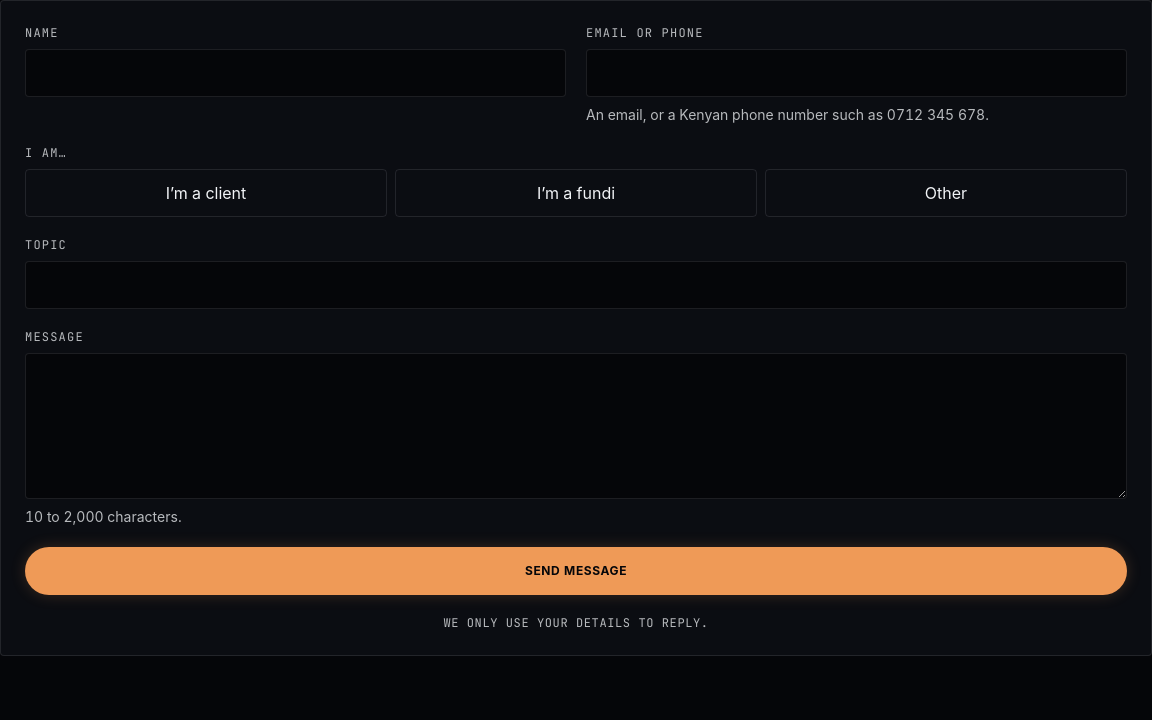
Test case: contact form (Convex) › rejects a message under 10 characters
Click the radio button labelled "I’m a fundi": (576, 193) [395,169,757,217]
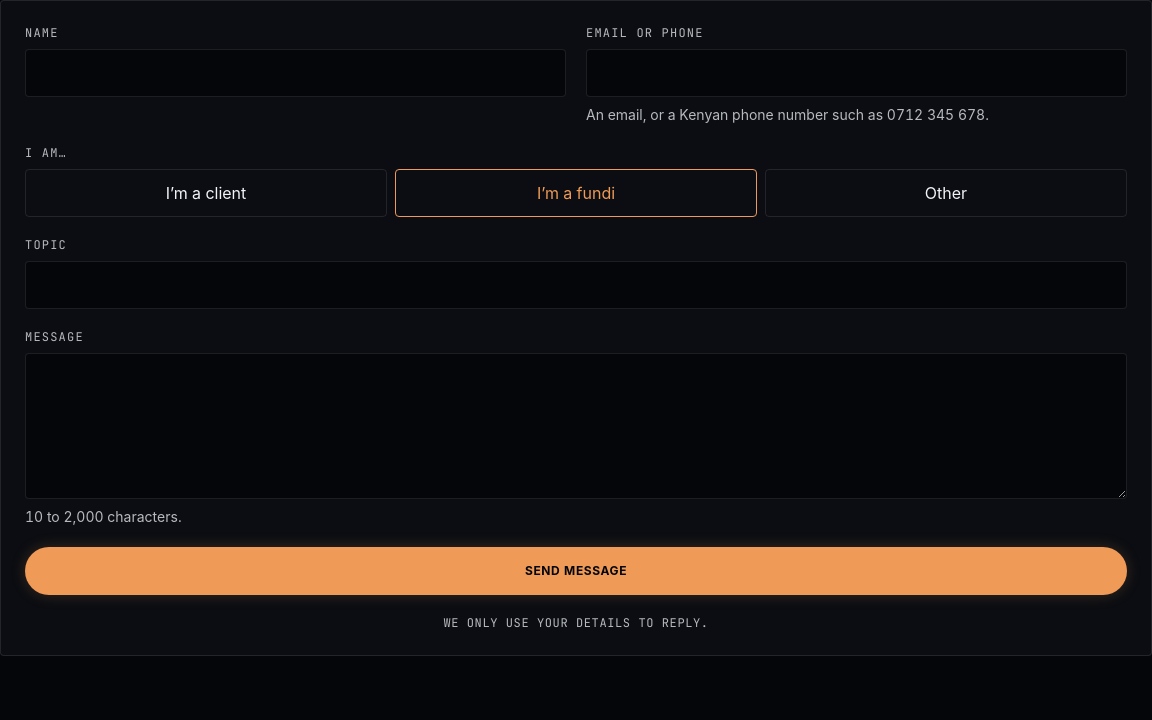
In the field labelled "Name": (296, 73) [25,49,566,97], type "  Wanjiru Kamau "
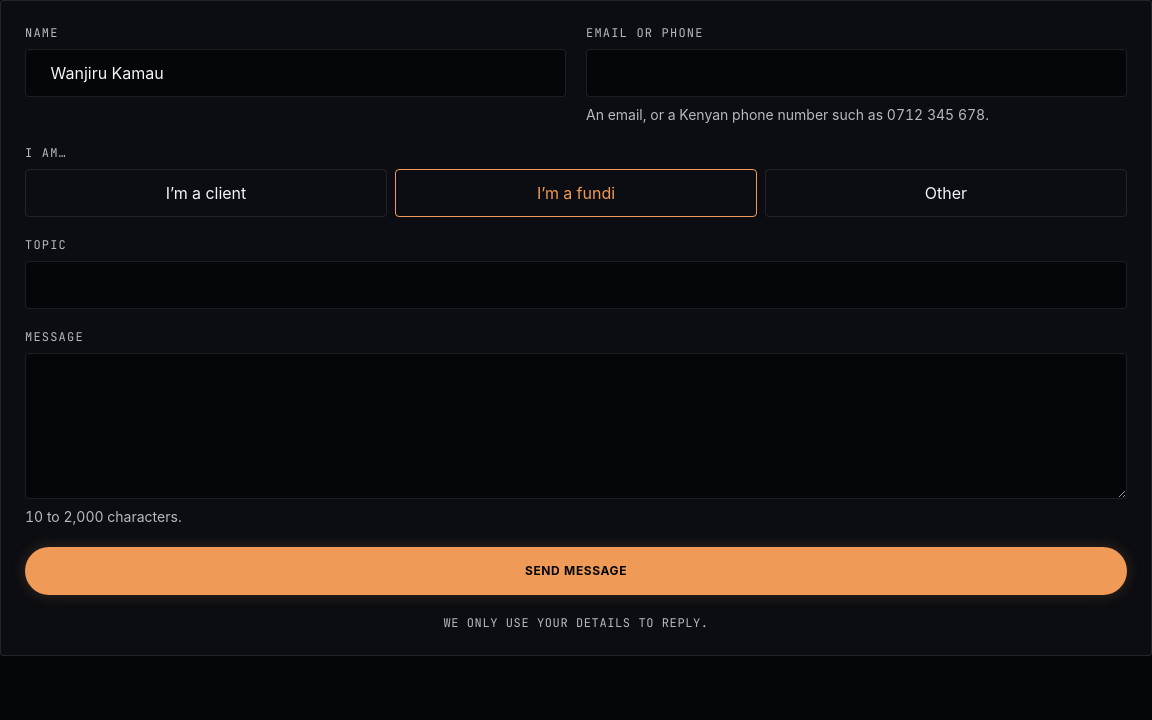
In the field labelled "Email or phone": (856, 73) [586,49,1127,97], type "0712 345 678"
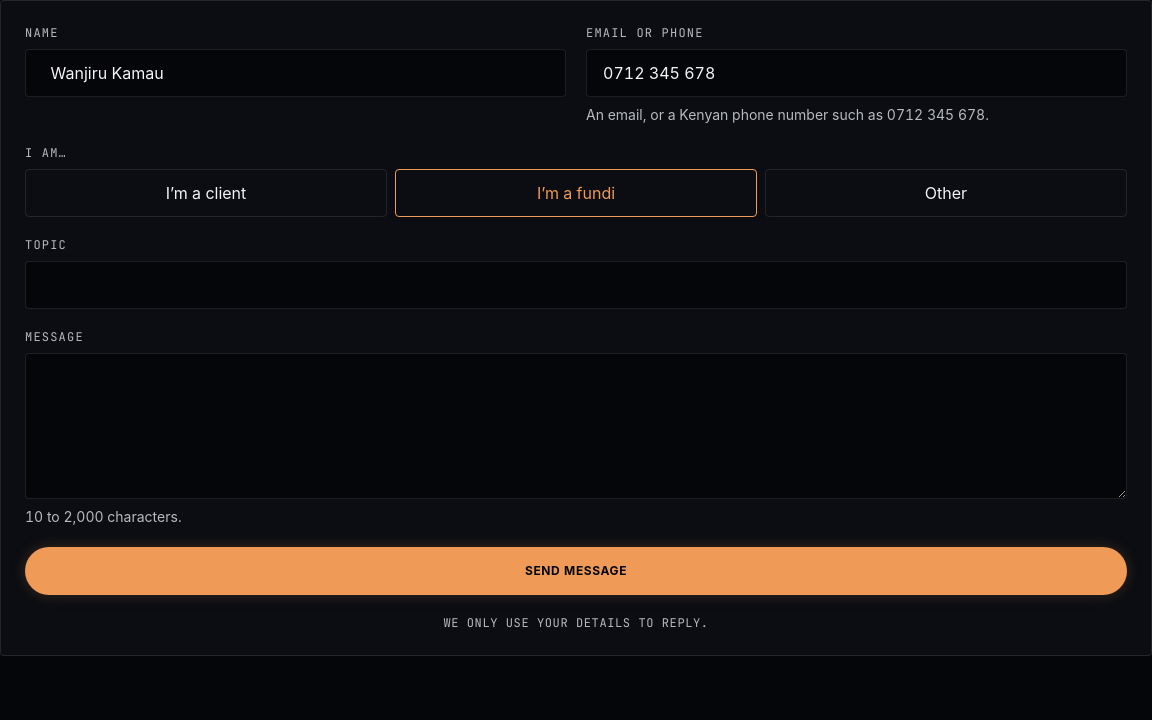
In the field labelled "Topic": (576, 285) [25,261,1127,309], type "My badge"
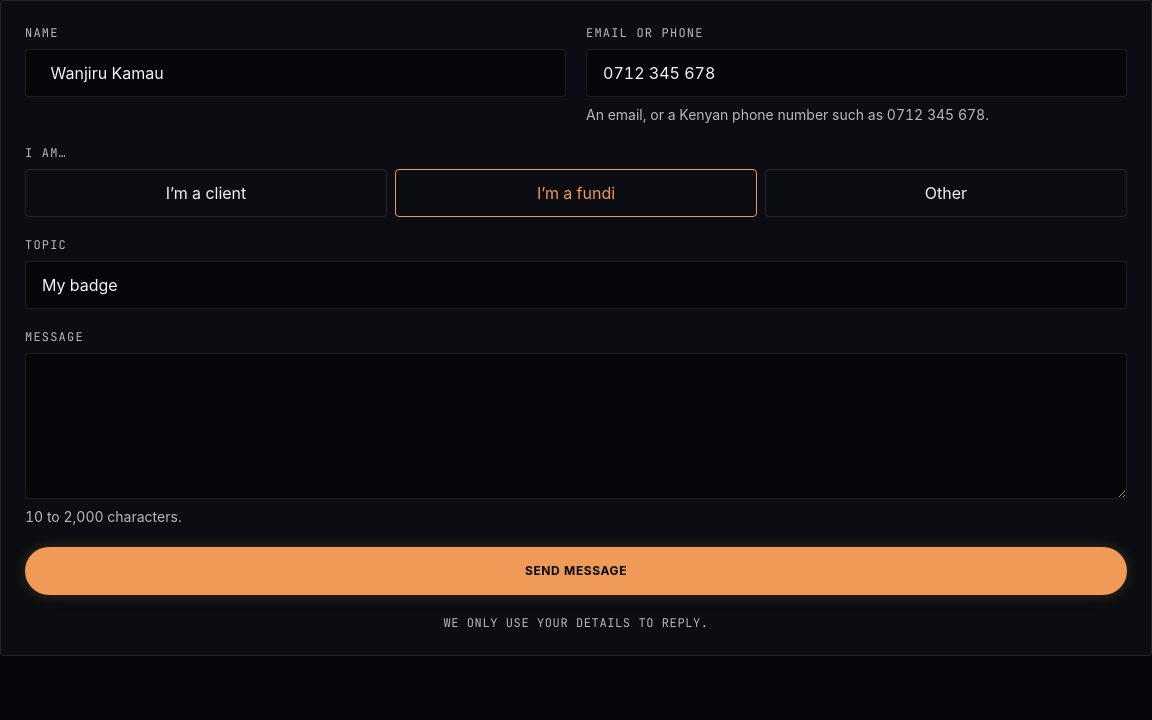
In the text box labelled "Message": (576, 426) [25,353,1127,499], type "How long does a review take after I upload?"
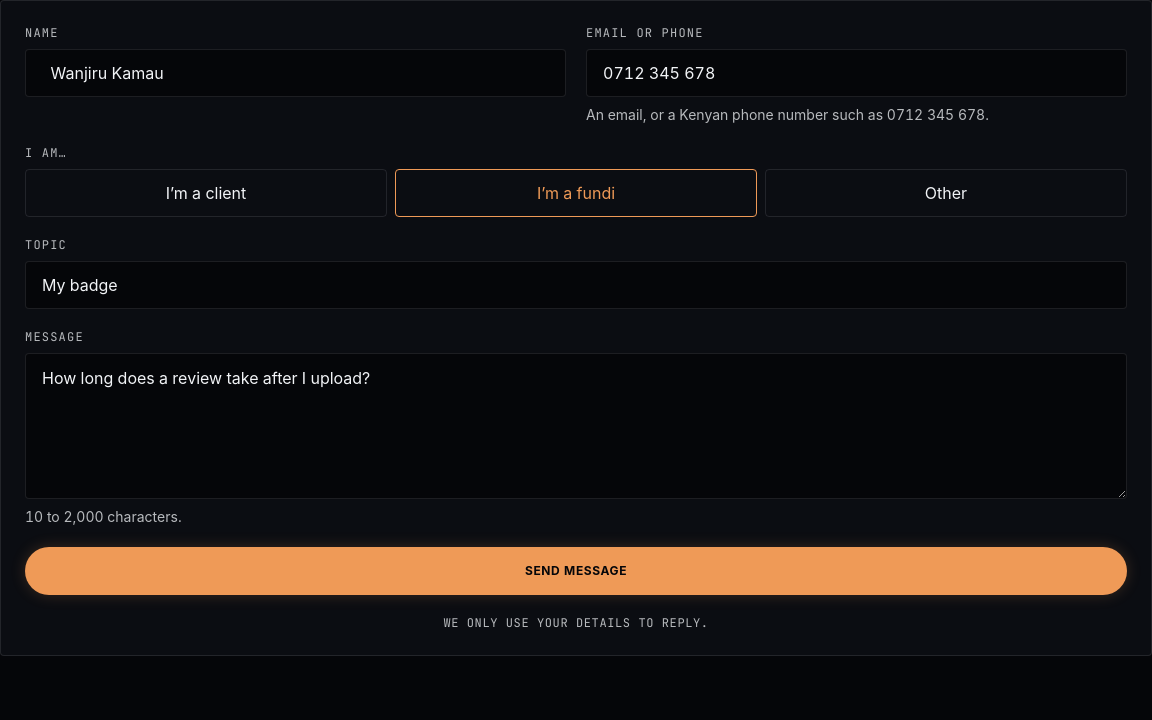
Replace the text in the text box labelled "Message" with "Too short": (576, 426) [25,353,1127,499]
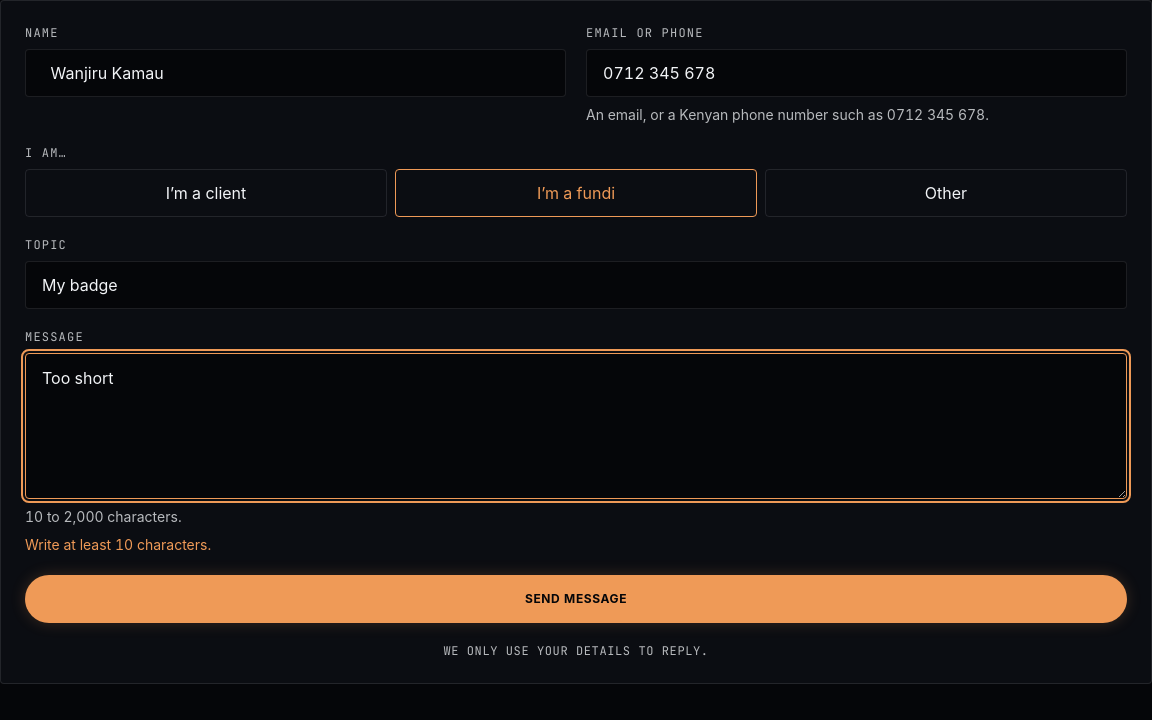
Result: the text "Write at least 10 characters." is shown at [25,536,211,553]
